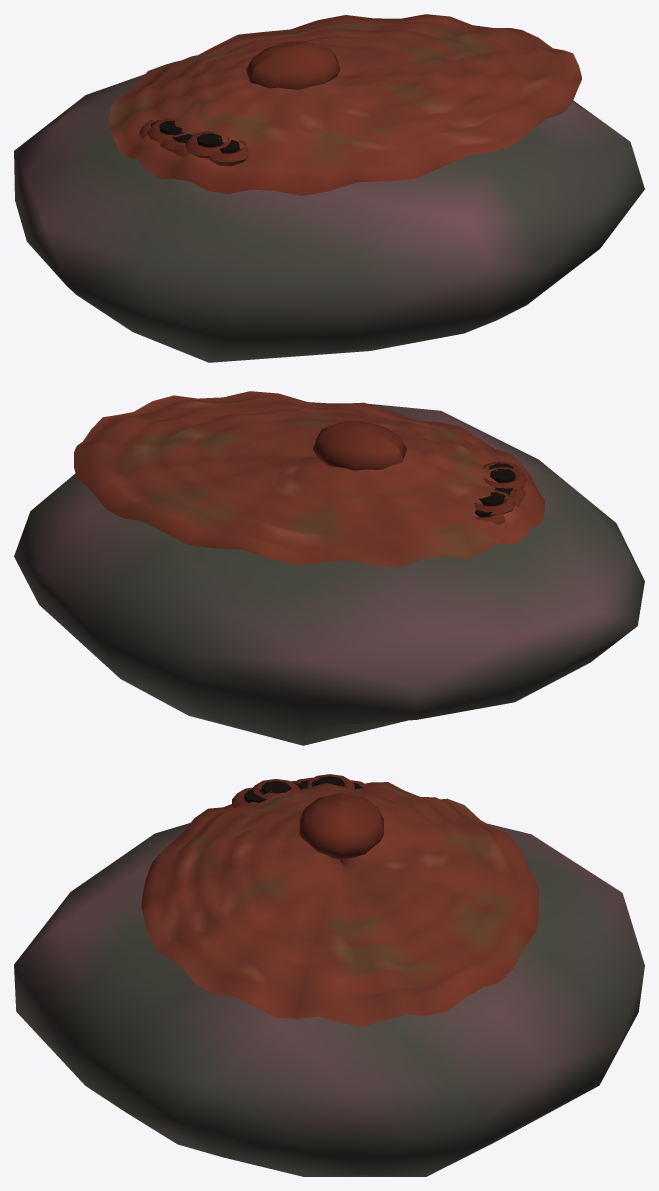
The model's file is abalone.glb.
3 views of the same model, one above another, from view 1: azimuth 30°, elevation 25°; view 2: azimuth 150°, elevation 25°; view 3: azimuth 270°, elevation 25° (orthographic). The views are drawn at different scales.
Visible parts, largest first — view 1: abalone; view 2: abalone; view 3: abalone.
Boxes of the visible parts, x1,y1,x2,y2 form: abalone: (14,14,644,362); abalone: (14,391,644,745); abalone: (14,774,644,1176).
Size of the model in its own units: 0.2518 by 0.1146 by 0.2272.
